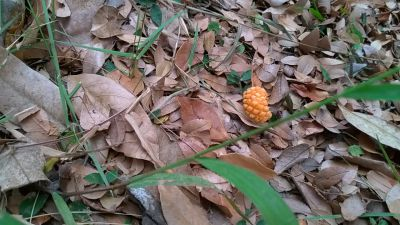eggs: (238, 85, 273, 125)
